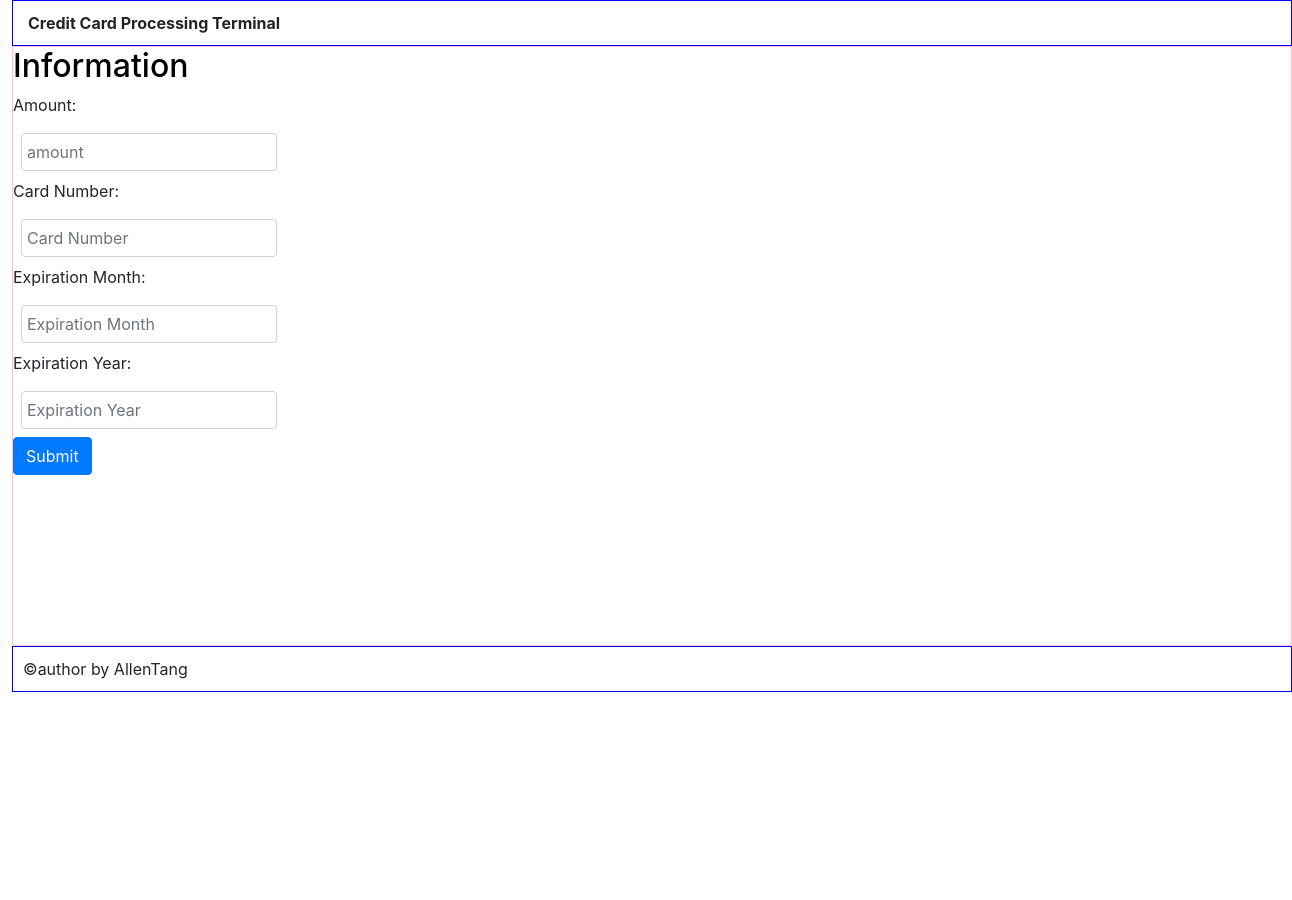
Test: handleChange › month › should return error when not satisfy
// stimulate value 13
Type "13" into the field with placeholder "Expiration Month". click: {"x": 149, "y": 324}
box: [21,305,277,343]
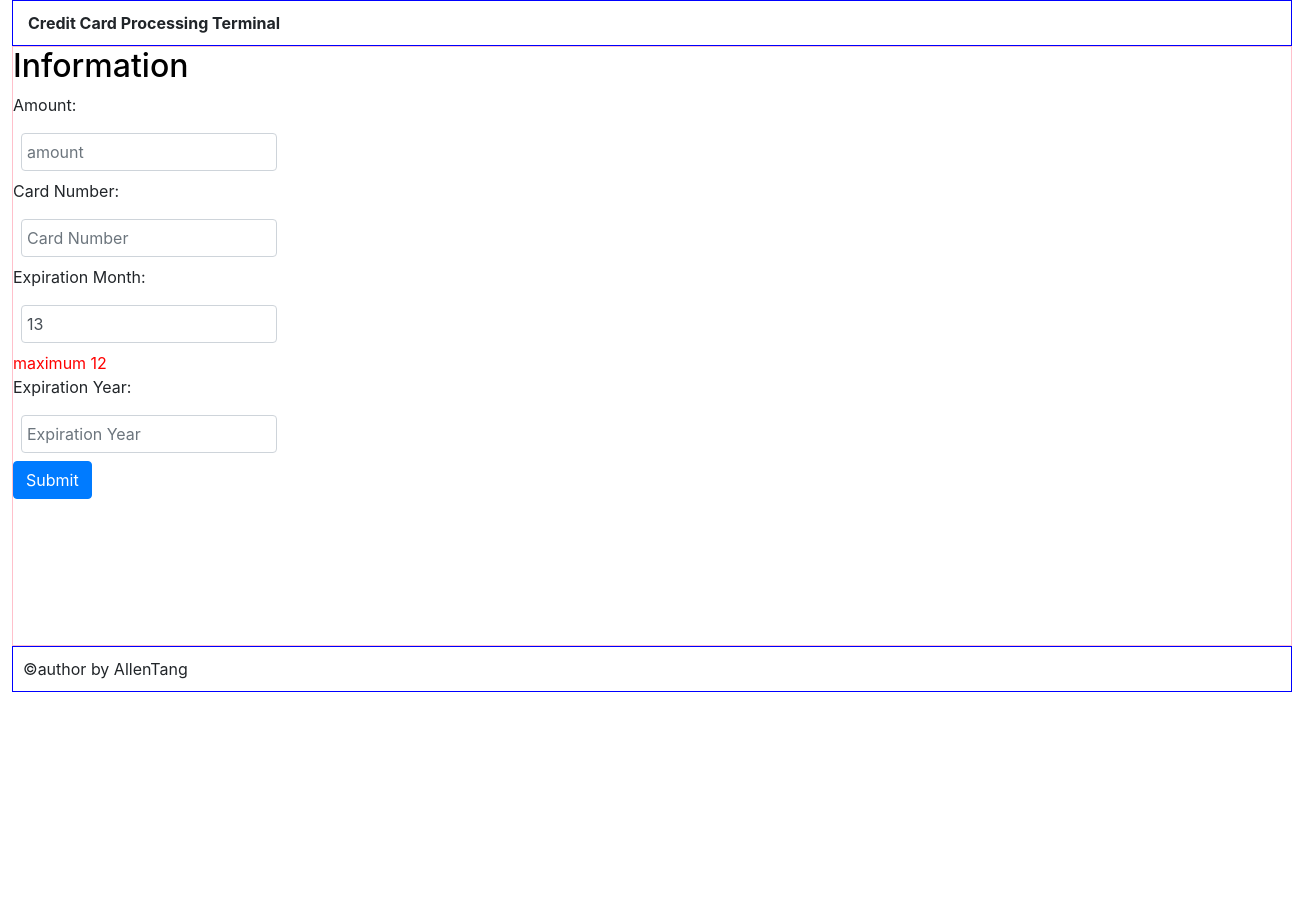
expect the text "maximum 12" is shown: met, box [13,353,107,373]
